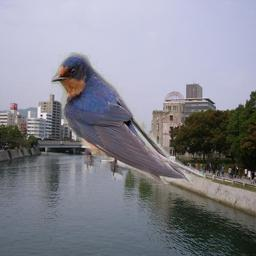Swallow: (51, 52, 205, 184)
